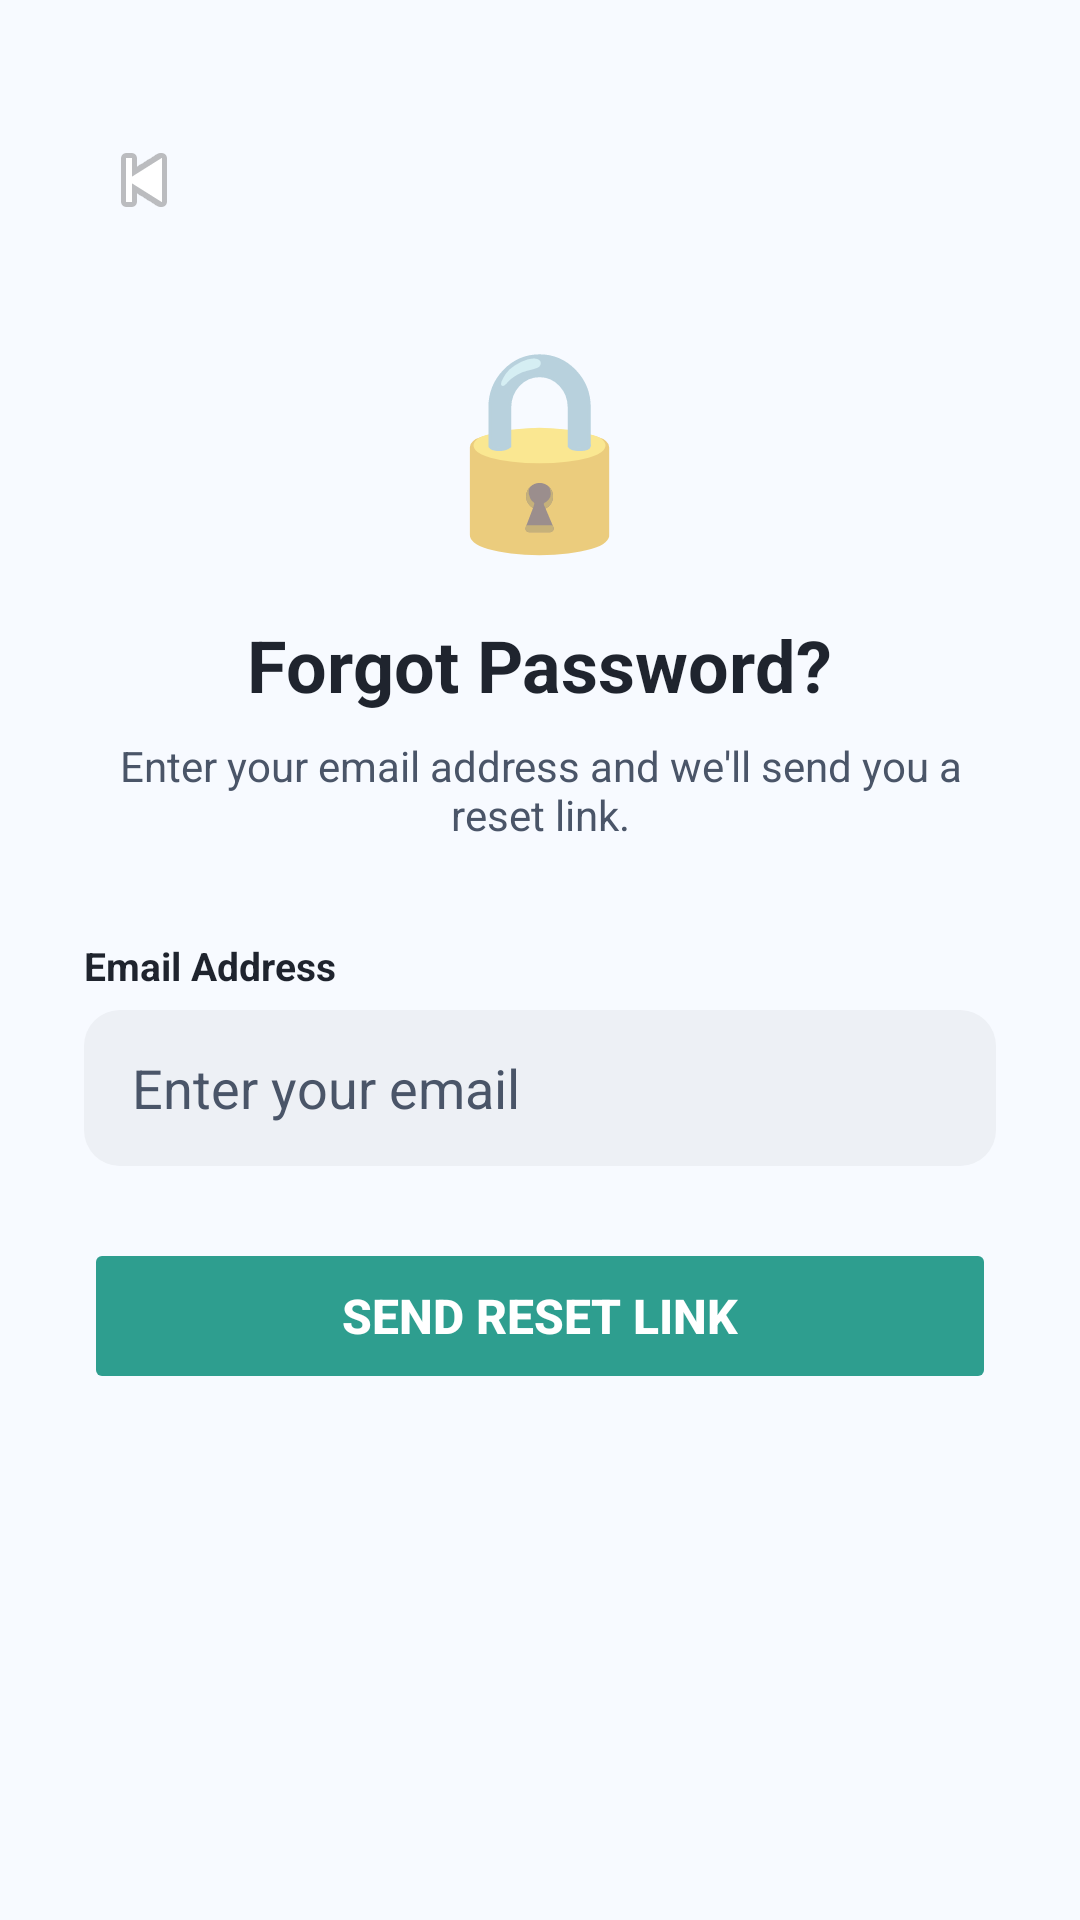

Screen size 1080px×1920px. Icon name, then its center in pixels as (x,y):
Back: (144,180)
